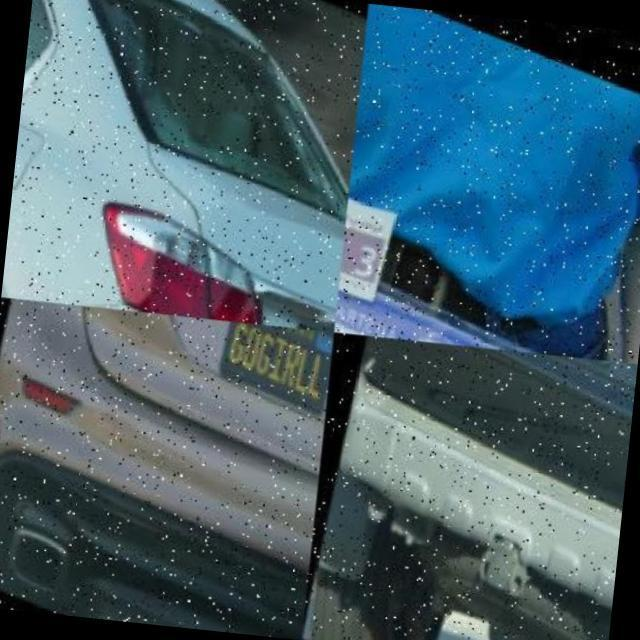License Plate: (202, 319, 334, 416), (503, 350, 621, 420)
